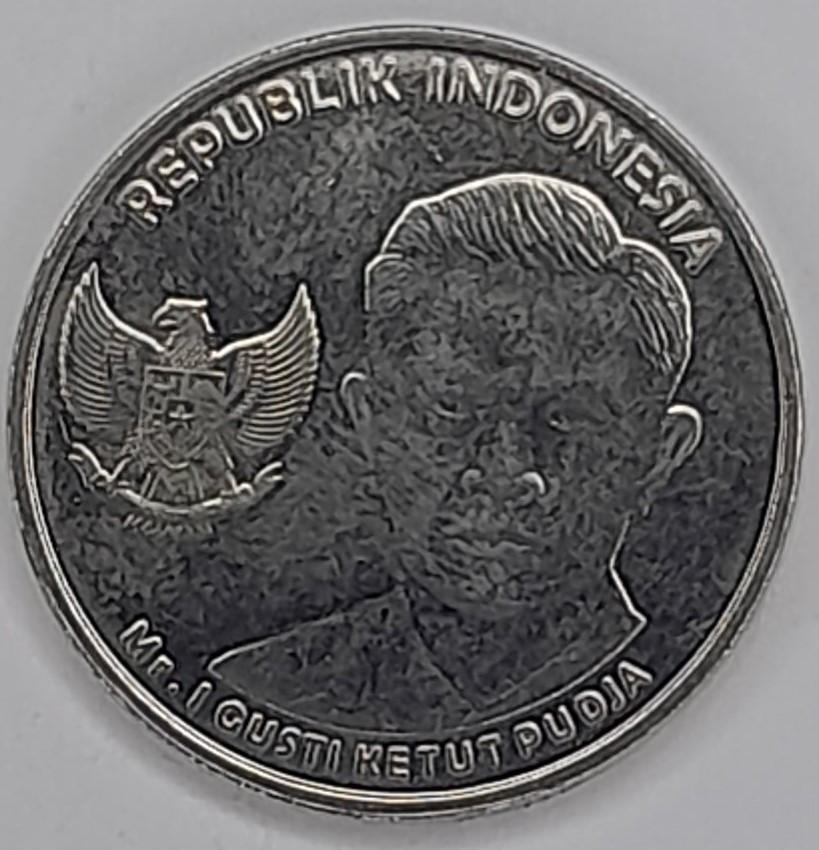coin_1000_e2016: (14, 17, 808, 850)
